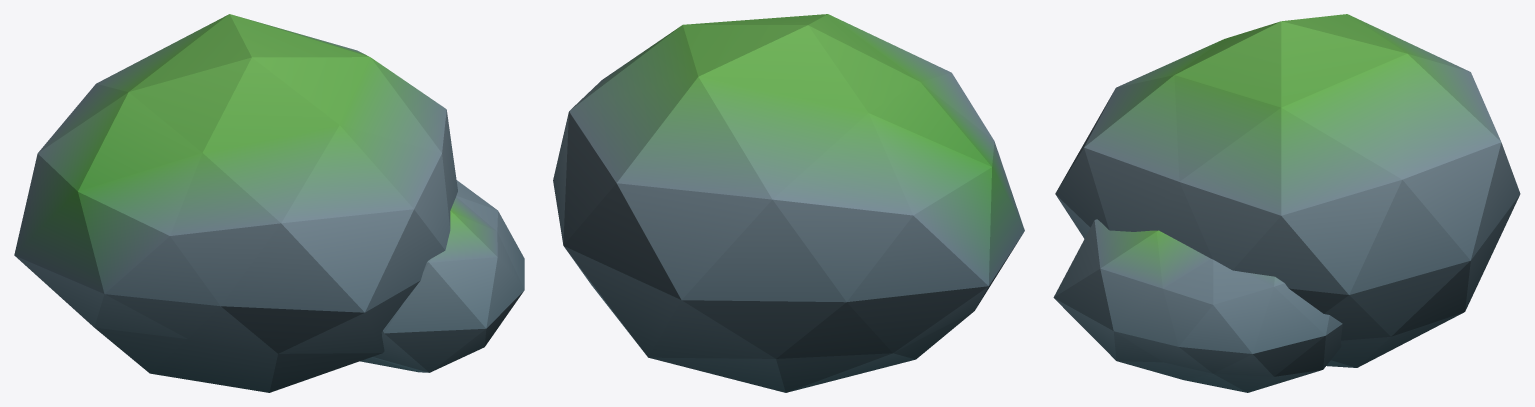
The model's file is rock_a.glb.
3 views of the same model, side by side, from view 1: azimuth 30°, elevation 25°; view 2: azimuth 150°, elevation 25°; view 3: azimuth 270°, elevation 25° (orthographic). The views are drawn at different scales.
Parts seen in each view (by area): view 1: RockA; view 2: RockA; view 3: RockA.
Part boxes in pixels (x1=…): RockA: x1=14, y1=14, x2=524, y2=392; RockA: x1=553, y1=14, x2=1024, y2=392; RockA: x1=1053, y1=14, x2=1520, y2=392.
Bounding box in the file's own units: 1.64 × 1.07 × 1.51.
